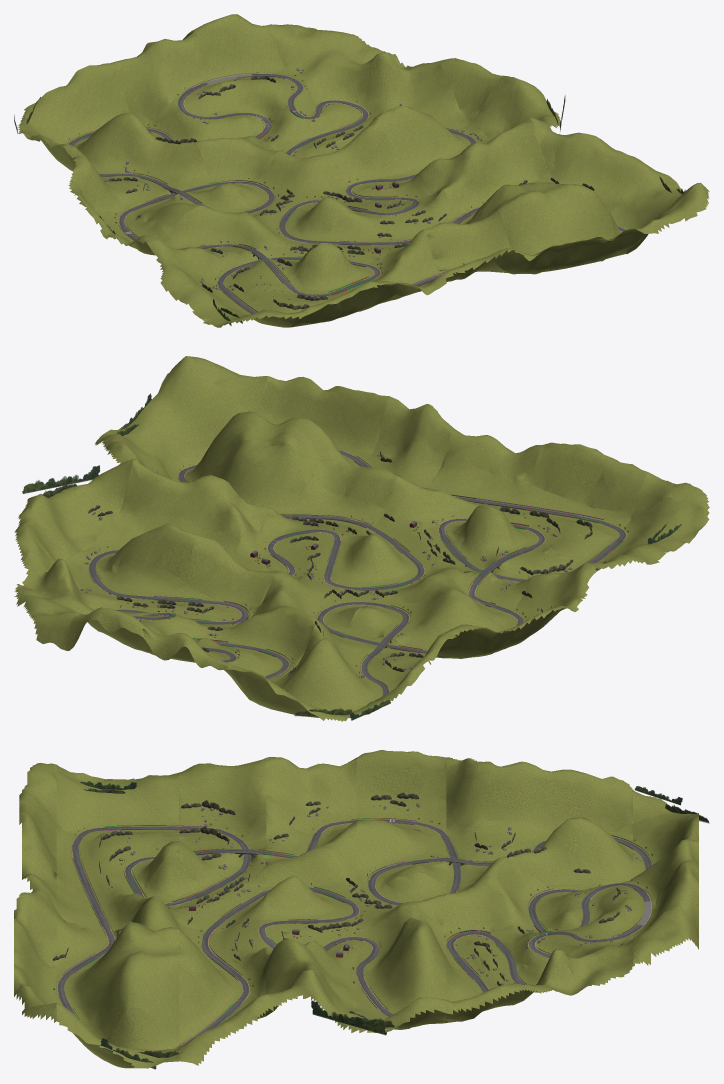
The model's file is car_racing_simulator_2015_-_track_4.glb.
The picture shows the model from 3 angles, top to bottom: view 1: azimuth 30°, elevation 25°; view 2: azimuth 150°, elevation 25°; view 3: azimuth 270°, elevation 25°; orthographic projection. The views are drawn at different scales.
Parts seen in each view (by area): view 1: T3_02_Track_Terrain_023, T3_02_Track_Terrain_001, T3_02_Track_Terrain_043, T3_02_Track_Terrain_081, T3_02_Track_Terrain_018, T3_02_Track_Terrain_038, T3_02_Track_Terrain_025, T3_02_Track_Terrain_030, T3_02_Track_Terrain_011, T3_02_Track_Terrain_041, T3_02_Track_Terrain_028, T3_02_Track_Terrain_054 (+41 smaller); view 2: T3_02_Track_Terrain_042, T3_02_Track_Terrain_081, T3_02_Track_Terrain_001, T3_02_Track_Terrain_016, T3_02_Track_Terrain_014, T3_02_Track_Terrain_027, T3_02_Track_Terrain_021, T3_02_Track_Terrain_023, T3_02_Track_Terrain_043, T3_02_Track_Terrain_015, T3_02_Track_Terrain_036, T3_02_Track_Terrain_054 (+44 smaller); view 3: T3_02_Track_Terrain_007, T3_02_Track_Terrain_001, T3_02_Track_Terrain_043, T3_02_Track_Terrain_036, T3_02_Track_Terrain_024, T3_02_Track_Terrain_040, T3_02_Track_Terrain_029, T3_02_Track_Terrain_015, T3_02_Track_Terrain_041, T3_02_Track_Terrain_023, T3_02_Track_Terrain_021, T3_02_Track_Terrain_027 (+54 smaller).
Part boxes in pixels (<box>): T3_02_Track_Terrain_023: <box>286,36,470,140</box>; T3_02_Track_Terrain_001: <box>74,112,214,210</box>; T3_02_Track_Terrain_043: <box>481,182,614,255</box>; T3_02_Track_Terrain_081: <box>405,118,548,194</box>; T3_02_Track_Terrain_018: <box>23,62,129,144</box>; T3_02_Track_Terrain_038: <box>114,30,210,126</box>; T3_02_Track_Terrain_025: <box>549,132,669,213</box>; T3_02_Track_Terrain_030: <box>193,14,285,80</box>; T3_02_Track_Terrain_011: <box>219,76,335,153</box>; T3_02_Track_Terrain_041: <box>375,106,470,177</box>; T3_02_Track_Terrain_028: <box>166,205,296,248</box>; T3_02_Track_Terrain_054: <box>312,117,400,194</box>; T3_02_Track_Terrain_042: <box>104,356,245,481</box>; T3_02_Track_Terrain_081: <box>112,459,270,556</box>; T3_02_Track_Terrain_001: <box>273,623,442,714</box>; T3_02_Track_Terrain_016: <box>257,376,390,455</box>; T3_02_Track_Terrain_014: <box>530,442,648,510</box>; T3_02_Track_Terrain_027: <box>206,440,312,515</box>; T3_02_Track_Terrain_021: <box>346,589,491,650</box>; T3_02_Track_Terrain_023: <box>14,546,168,614</box>; T3_02_Track_Terrain_043: <box>199,411,358,478</box>; T3_02_Track_Terrain_015: <box>216,591,338,682</box>; T3_02_Track_Terrain_036: <box>596,497,709,563</box>; T3_02_Track_Terrain_054: <box>186,535,300,607</box>; T3_02_Track_Terrain_007: <box>446,757,632,833</box>; T3_02_Track_Terrain_001: <box>447,817,632,886</box>; T3_02_Track_Terrain_043: <box>64,922,178,1041</box>; T3_02_Track_Terrain_036: <box>56,765,178,833</box>; T3_02_Track_Terrain_024: <box>356,750,446,832</box>; T3_02_Track_Terrain_040: <box>266,757,356,833</box>; T3_02_Track_Terrain_029: <box>179,758,266,833</box>; T3_02_Track_Terrain_015: <box>446,856,604,930</box>; T3_02_Track_Terrain_041: <box>363,920,446,1014</box>; T3_02_Track_Terrain_023: <box>446,939,632,1022</box>; T3_02_Track_Terrain_021: <box>356,819,446,886</box>; T3_02_Track_Terrain_027: <box>179,929,242,1042</box>.
Size of what is drawn, in the model's own units: 1147 by 195 by 1185.
10 materials, 10 textured.
